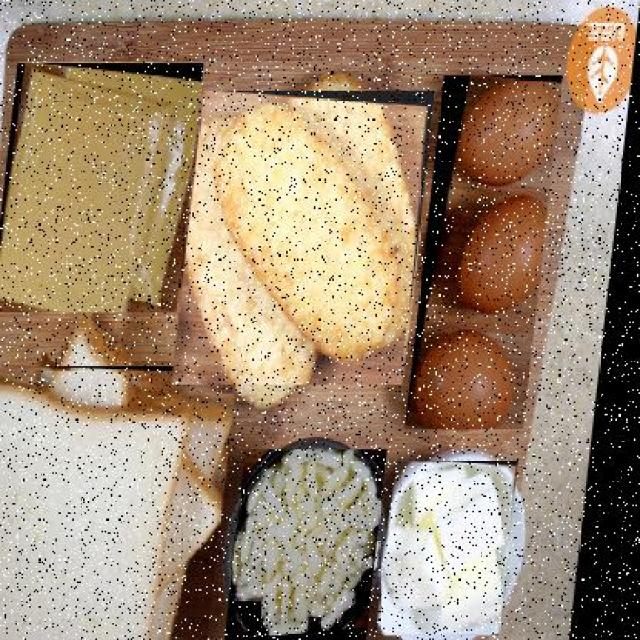bread: (0, 364, 248, 638)
butter: (392, 458, 531, 634)
cheese: (0, 61, 207, 312)
egg: (416, 74, 566, 429)
hash_brown: (180, 89, 438, 385)
mozzarella cheese: (238, 448, 402, 638)
